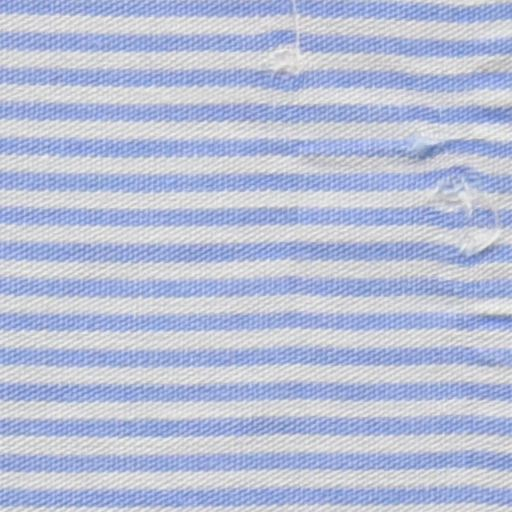defect: (399, 121, 505, 271), (259, 39, 309, 83)
